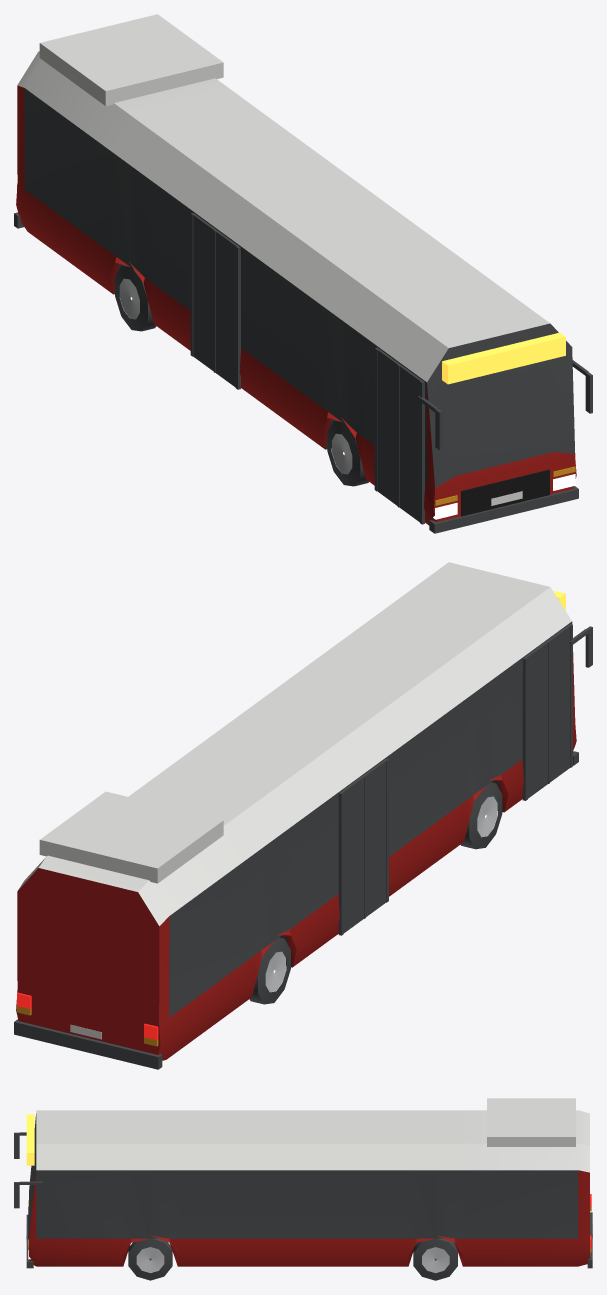
File: bus_lod1.glb
The picture shows the model from 3 angles, top to bottom: view 1: azimuth 30°, elevation 25°; view 2: azimuth 150°, elevation 25°; view 3: azimuth 270°, elevation 25°; orthographic projection. The views are drawn at different scales.
Visible parts, largest first — view 1: bus_lod1; view 2: bus_lod1; view 3: bus_lod1.
Boxes of the visible parts, x1,y1,x2,y2 form: bus_lod1: [14, 14, 592, 533]; bus_lod1: [14, 562, 592, 1069]; bus_lod1: [14, 1098, 592, 1280].
Size of the model in its own units: 0.1275 by 0.165 by 0.6192.
